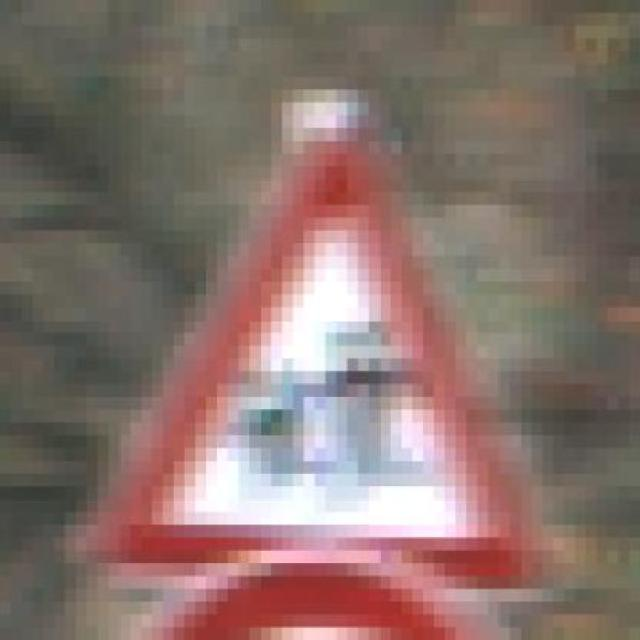Beware of children: (76, 79, 542, 604)
